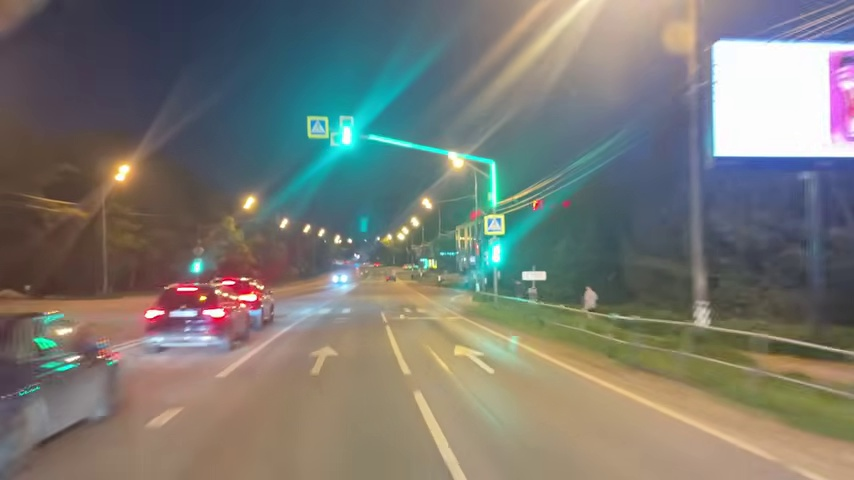acesa: (108, 159, 137, 188), (416, 194, 437, 218), (237, 193, 259, 213), (447, 153, 468, 173), (419, 196, 435, 211)
